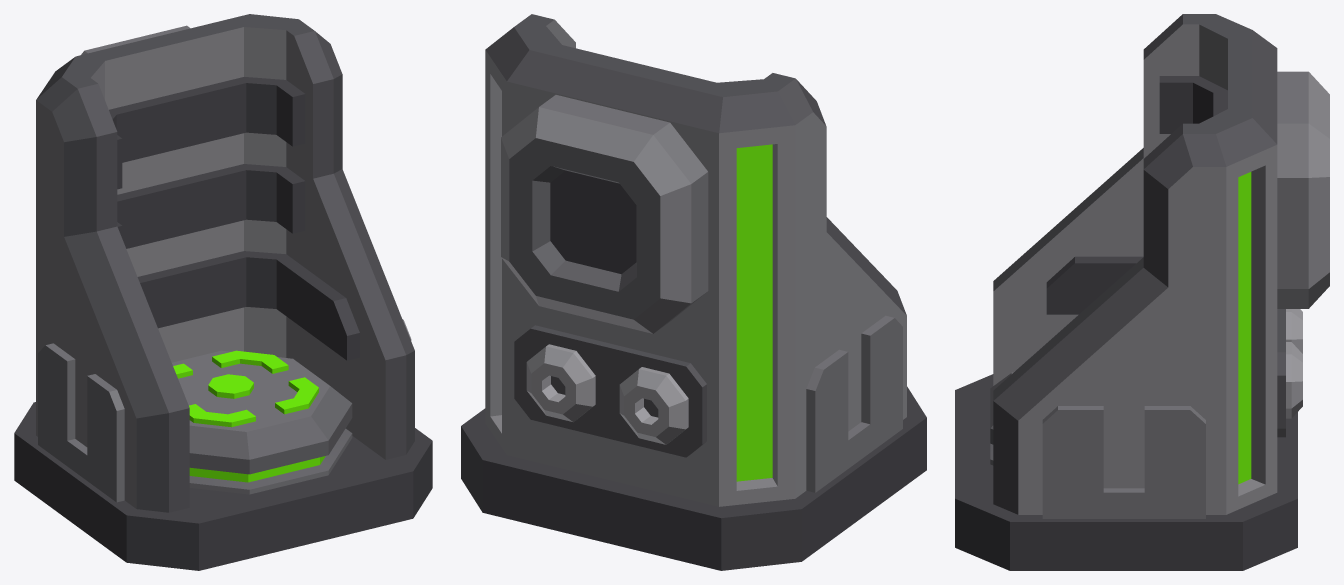
The model's file is worlds_SM_Prop_PowerCellCharger_01.gltf.
3 renders of one model, left to right at view 1: azimuth 30°, elevation 25°; view 2: azimuth 150°, elevation 25°; view 3: azimuth 270°, elevation 25°, orthographic. The views are drawn at different scales.
Visible parts, largest first — view 1: SM_Prop_PowerCellCharger_01; view 2: SM_Prop_PowerCellCharger_01; view 3: SM_Prop_PowerCellCharger_01.
Boxes of the visible parts, x1,y1,x2,y2 form: SM_Prop_PowerCellCharger_01: (14, 14, 432, 570); SM_Prop_PowerCellCharger_01: (461, 14, 926, 570); SM_Prop_PowerCellCharger_01: (955, 14, 1329, 570).
Size of the model in its own units: 0.8144 by 1.03 by 0.8331.
1 material, 1 textured.
